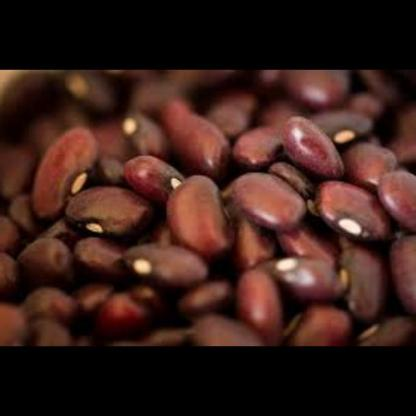beans: (0, 69, 416, 346)
